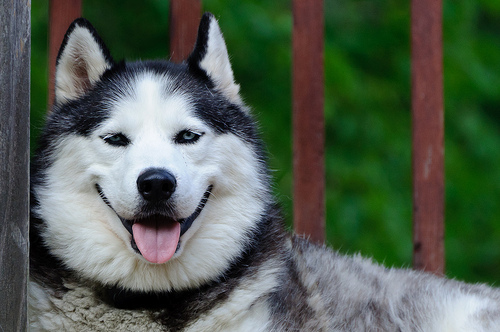dog: (32, 12, 499, 331)
